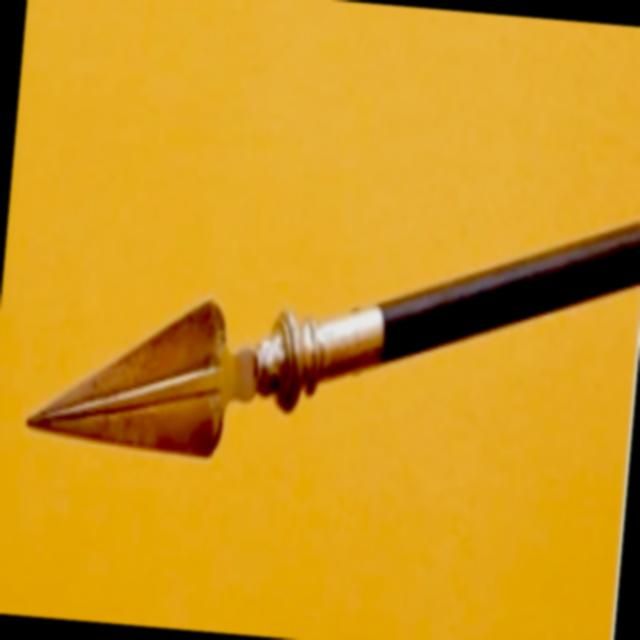spear: (6, 158, 640, 598)
